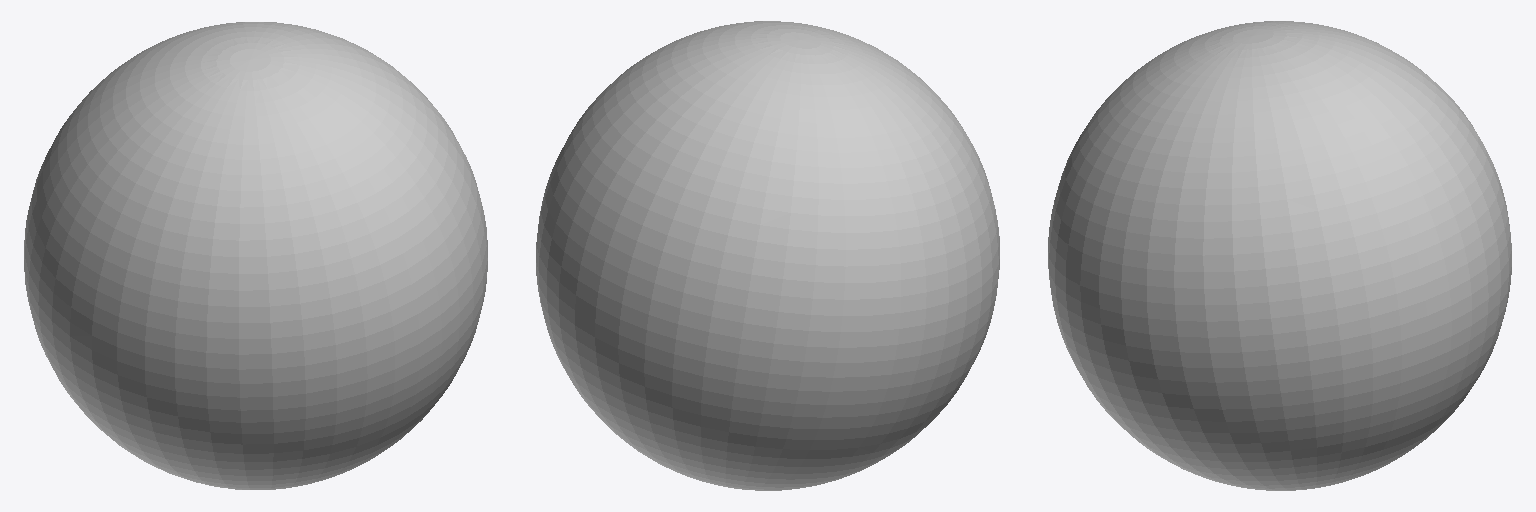
File: pluto.obj
The picture shows the model from 3 angles: view 1: azimuth 30°, elevation 25°; view 2: azimuth 150°, elevation 25°; view 3: azimuth 270°, elevation 25°; orthographic projection.
Parts seen in each view (by area): view 1: Pluto; view 2: Pluto; view 3: Pluto.
Boxes of the visible parts, <box> form: Pluto: <box>24,22,487,489</box>; Pluto: <box>536,21,999,490</box>; Pluto: <box>1048,21,1511,490</box>.
Size of the model in its own units: 5.37 by 5.44 by 5.36.